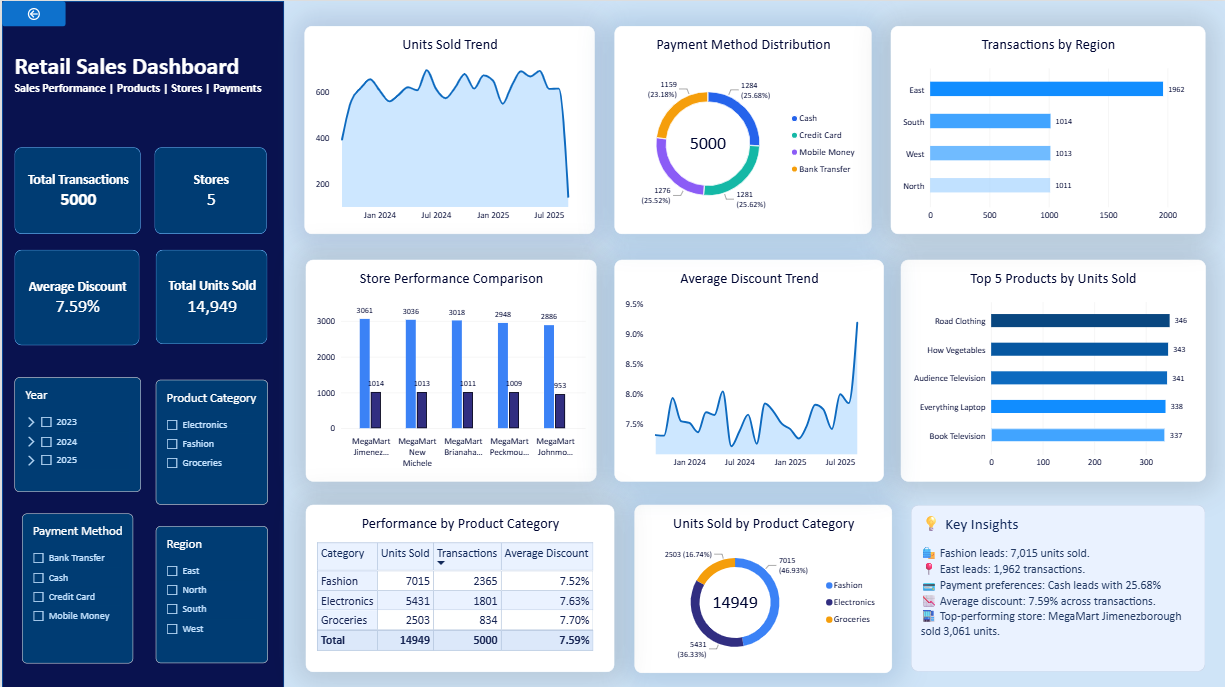

This screenshot's page, from the dashboard's own definition file:
{"tool":"powerbi","page":{"name":"Page 1","canvas":[1920,1080],"ordinal":0},"visuals":[{"type":"shape","box":[0,0,442.6,1077.8],"z":0},{"type":"cardVisual","fields":{"Data":["Sum(staging_dbt_marts mart_sales_summary.transaction_count)"]},"box":[20,230,198,136],"z":1000},{"type":"cardVisual","fields":{"Data":["Sum(staging_dbt_marts mart_sales_summary.units_sold)"]},"box":[240.7,390.7,175.9,148.1],"z":2000},{"type":"cardVisual","fields":{"Data":["staging_dbt_marts mart_sales_summary.Average Discount"]},"box":[20,390,196,150],"z":3000},{"type":"cardVisual","fields":{"Data":["Count(staging_dbt_marts mart_sales_summary.store_id)"]},"box":[240,230,176,136],"z":4000},{"type":"lineChart","title":"Units Sold Trend","fields":{"Category":["staging_dbt_marts mart_sales_summary.date.Variation.Date Hierarchy.Year","staging_dbt_marts mart_sales_summary.date.Variation.Date Hierarchy.Month"],"Y":["Sum(staging_dbt_marts mart_sales_summary.units_sold)"]},"box":[475,40,455,326.7],"z":5000},{"type":"donutChart","title":"Units Sold by Product Category","fields":{"Category":["staging_dbt_marts mart_sales_summary.category"],"Y":["Sum(staging_dbt_marts mart_sales_summary.units_sold)"]},"box":[992,790,404,264],"z":6000},{"type":"clusteredBarChart","title":"Top 5 Products by Units Sold","fields":{"Category":["staging_dbt_marts mart_sales_summary.product_name"],"Y":["Sum(staging_dbt_marts mart_sales_summary.units_sold)"]},"box":[1410,406,478,348],"z":7000},{"type":"clusteredColumnChart","title":"Store Performance Comparison","fields":{"Category":["staging_dbt_marts mart_sales_summary.store_name"],"Y":["Sum(staging_dbt_marts mart_sales_summary.units_sold)","Sum(staging_dbt_marts mart_sales_summary.transaction_count)"]},"box":[476,406,456,348],"z":8000},{"type":"lineChart","title":"Average Discount Trend","fields":{"Category":["staging_dbt_marts mart_sales_summary.date.Variation.Date Hierarchy.Year","staging_dbt_marts mart_sales_summary.date.Variation.Date Hierarchy.Month"],"Y":["staging_dbt_marts mart_sales_summary.Weighted Average Discount"]},"box":[960,406,422,348],"z":9000},{"type":"donutChart","title":"Payment Method Distribution","fields":{"Category":["staging_dbt_marts mart_sales_summary.payment_method"],"Y":["Sum(staging_dbt_marts mart_sales_summary.transaction_count)"]},"box":[960,40,403.3,326.7],"z":10000},{"type":"tableEx","title":"Performance by Product Category","fields":{"Values":["staging_dbt_marts mart_sales_summary.category","Sum(staging_dbt_marts mart_sales_summary.units_sold)","Sum(staging_dbt_marts mart_sales_summary.transaction_count)","staging_dbt_marts mart_sales_summary.Weighted Average Discount"]},"box":[476,790,484,262],"z":11000},{"type":"actionButton","box":[0,0,100,40],"z":12000},{"type":"clusteredBarChart","title":"Transactions by Region","fields":{"Category":["staging_dbt_marts mart_sales_summary.region"],"Y":["Sum(staging_dbt_marts mart_sales_summary.transaction_count)"]},"box":[1395,40,493.3,326.7],"z":13000},{"type":"listSlicer","fields":{"Values":["staging_dbt_marts mart_sales_summary.date.Variation.Date Hierarchy.Year","staging_dbt_marts mart_sales_summary.date.Variation.Date Hierarchy.Month","staging_dbt_marts mart_sales_summary.date.Variation.Date Hierarchy.Day"]},"box":[20.4,590.7,198.1,179.6],"z":14000},{"type":"listSlicer","title":"Product Category","fields":{"Values":["staging_dbt_marts mart_sales_summary.category"]},"box":[240.7,594.4,175.9,196.3],"z":15000},{"type":"listSlicer","title":"Region","fields":{"Values":["staging_dbt_marts mart_sales_summary.region"]},"box":[240.7,824.1,175.9,214.8],"z":16000},{"type":"listSlicer","title":"Payment Method","fields":{"Values":["staging_dbt_marts mart_sales_summary.payment_method"]},"box":[31.5,803.7,174.1,235.2],"z":17000},{"type":"textbox","box":[1819.3,1026.3,12.3,52.6],"z":18000},{"type":"textbox","box":[20.5,61.4,395.5,145.5],"z":19000},{"type":"shape","box":[1426,790,462,262],"z":20000},{"type":"textbox","box":[1441.4,802.9,432.9,237.1],"z":21000}]}

Visuals, with their boxes in screenshot pixels (x1, y1, x2, y2), scaled from the page's 1920x1080 canvas onto the 1225x687 screenshot:
shape: (0,0,282,686)
cardVisual - Sum(staging_dbt_marts mart_sales_summary.transaction_count): (13,146,139,233)
cardVisual - Sum(staging_dbt_marts mart_sales_summary.units_sold): (154,249,266,343)
cardVisual - staging_dbt_marts mart_sales_summary.Average Discount: (13,248,138,344)
cardVisual - Count(staging_dbt_marts mart_sales_summary.store_id): (153,146,265,233)
"Units Sold Trend" lineChart: (303,25,593,233)
"Units Sold by Product Category" donutChart: (633,503,891,670)
"Top 5 Products by Units Sold" clusteredBarChart: (900,258,1205,480)
"Store Performance Comparison" clusteredColumnChart: (304,258,595,480)
"Average Discount Trend" lineChart: (612,258,882,480)
"Payment Method Distribution" donutChart: (612,25,870,233)
"Performance by Product Category" tableEx: (304,503,612,669)
actionButton: (0,0,64,25)
"Transactions by Region" clusteredBarChart: (890,25,1205,233)
listSlicer - staging_dbt_marts mart_sales_summary.date.Variation.Date Hierarchy.Year x staging_dbt_marts mart_sales_summary.date.Variation.Date Hierarchy.Month: (13,376,139,490)
"Product Category" listSlicer: (154,378,266,503)
"Region" listSlicer: (154,524,266,661)
"Payment Method" listSlicer: (20,511,131,661)
textbox: (1161,653,1169,686)
textbox: (13,39,265,132)
shape: (910,503,1205,669)
textbox: (920,511,1196,662)
